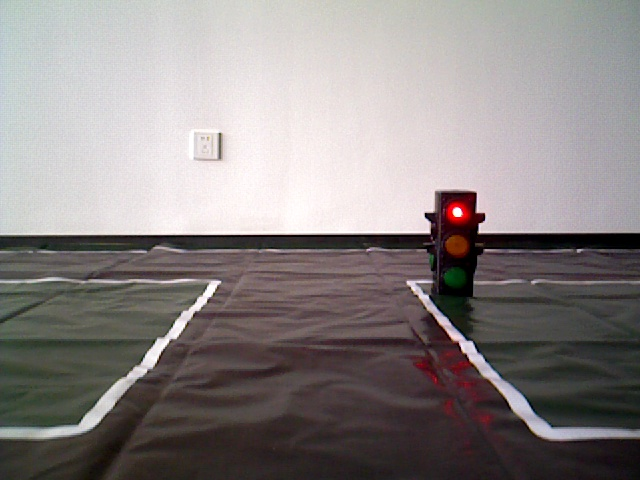red: (433, 191, 471, 291)
